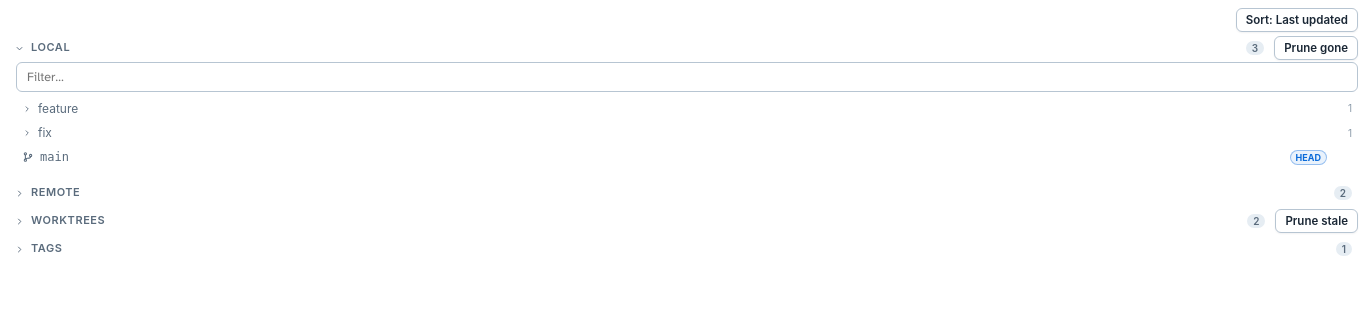
RepoSidebar sections › opens only the local section by default and toggles others
This screenshot has width=1366, height=333.
Expected: the text "v1.0.0" is not shown
Step 1. Click the button "Tags 1" → {"x": 47, "y": 248}, box top-left (8, 237), bottom-right (1358, 261)
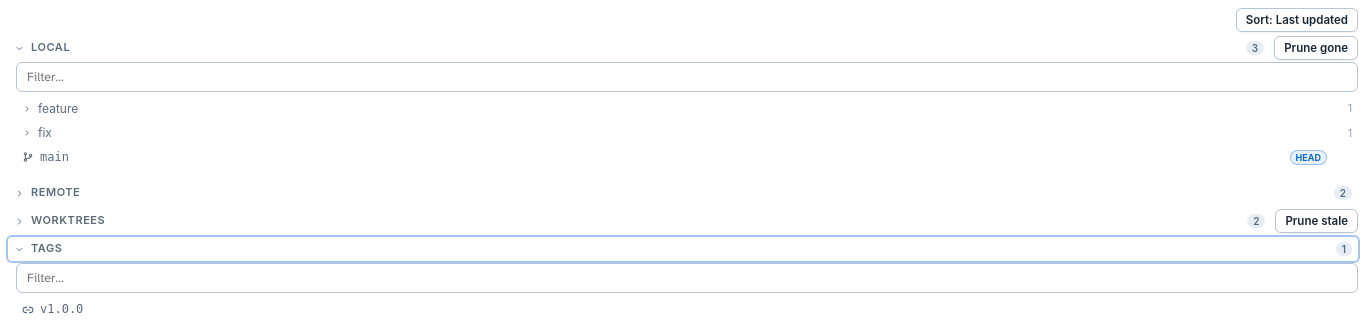
Expected: the button "Tags 1" is expanded, top-left (8, 237), bottom-right (1358, 261)
Expected: the text "v1.0.0" is shown, top-left (40, 302), bottom-right (83, 316)
